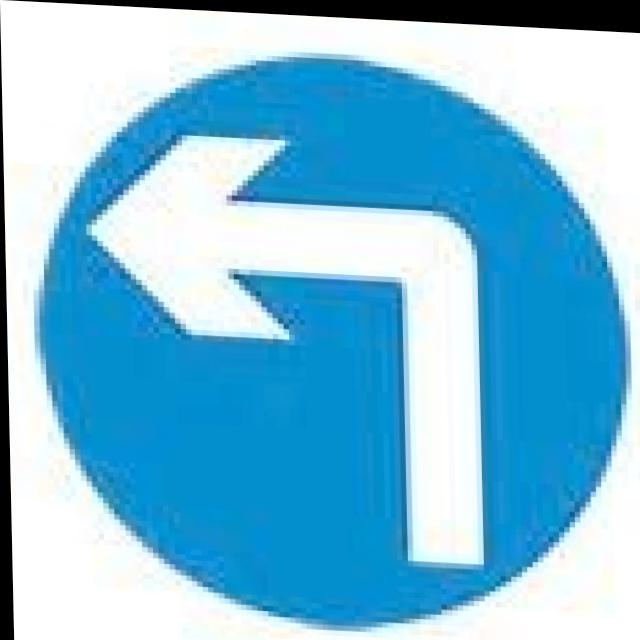COMPULSARY_TURN_LEFT_AHEAD: (22, 35, 637, 640)
